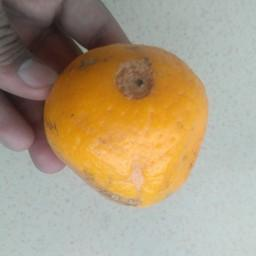Bad_orange: (38, 43, 210, 209)
